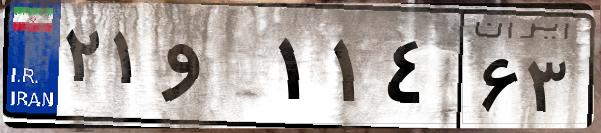1: (270, 28, 330, 110), (330, 28, 385, 110), (110, 28, 158, 98)
2: (57, 26, 110, 100)
3: (525, 38, 570, 115)
4: (385, 28, 445, 110)
6: (475, 38, 525, 113)
و: (158, 20, 270, 120)
